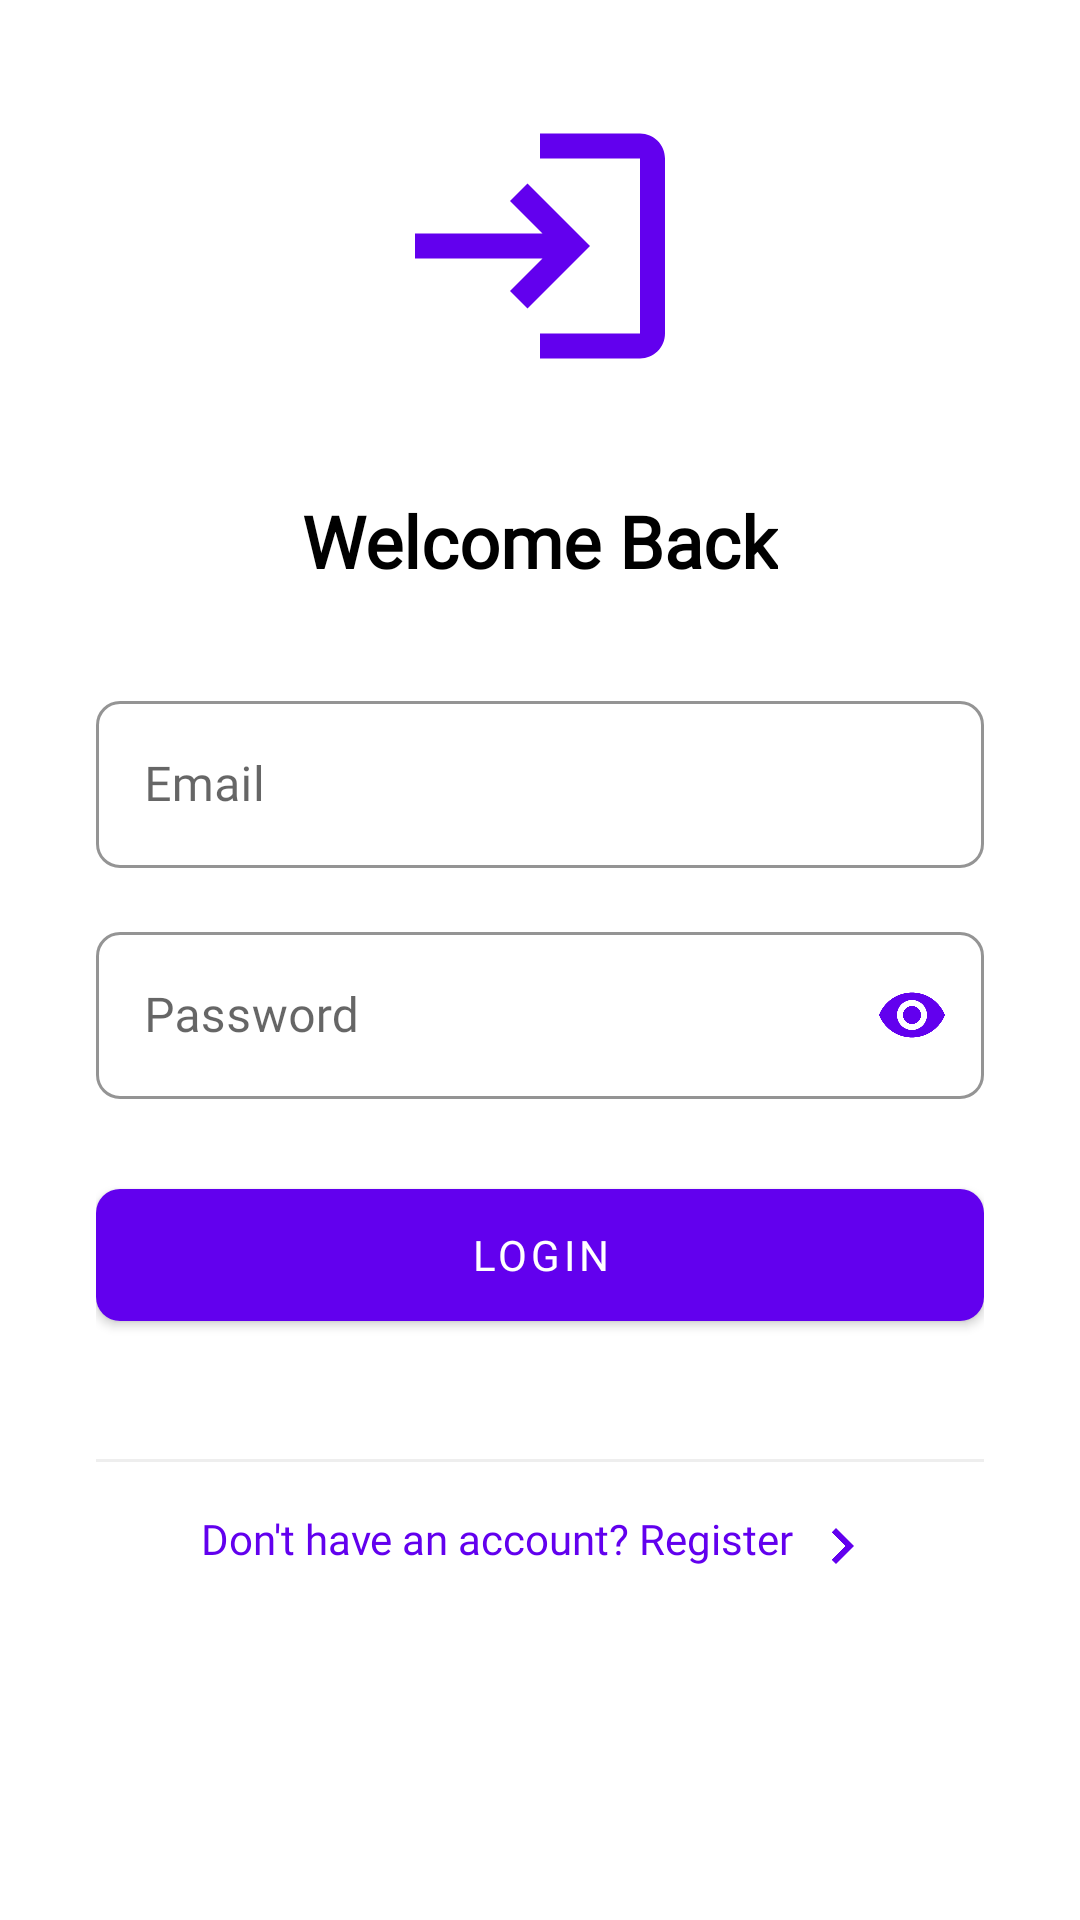

Named icons in this screenshot (1080×1920) and their centers, [x,y]:
login: [540,246]
